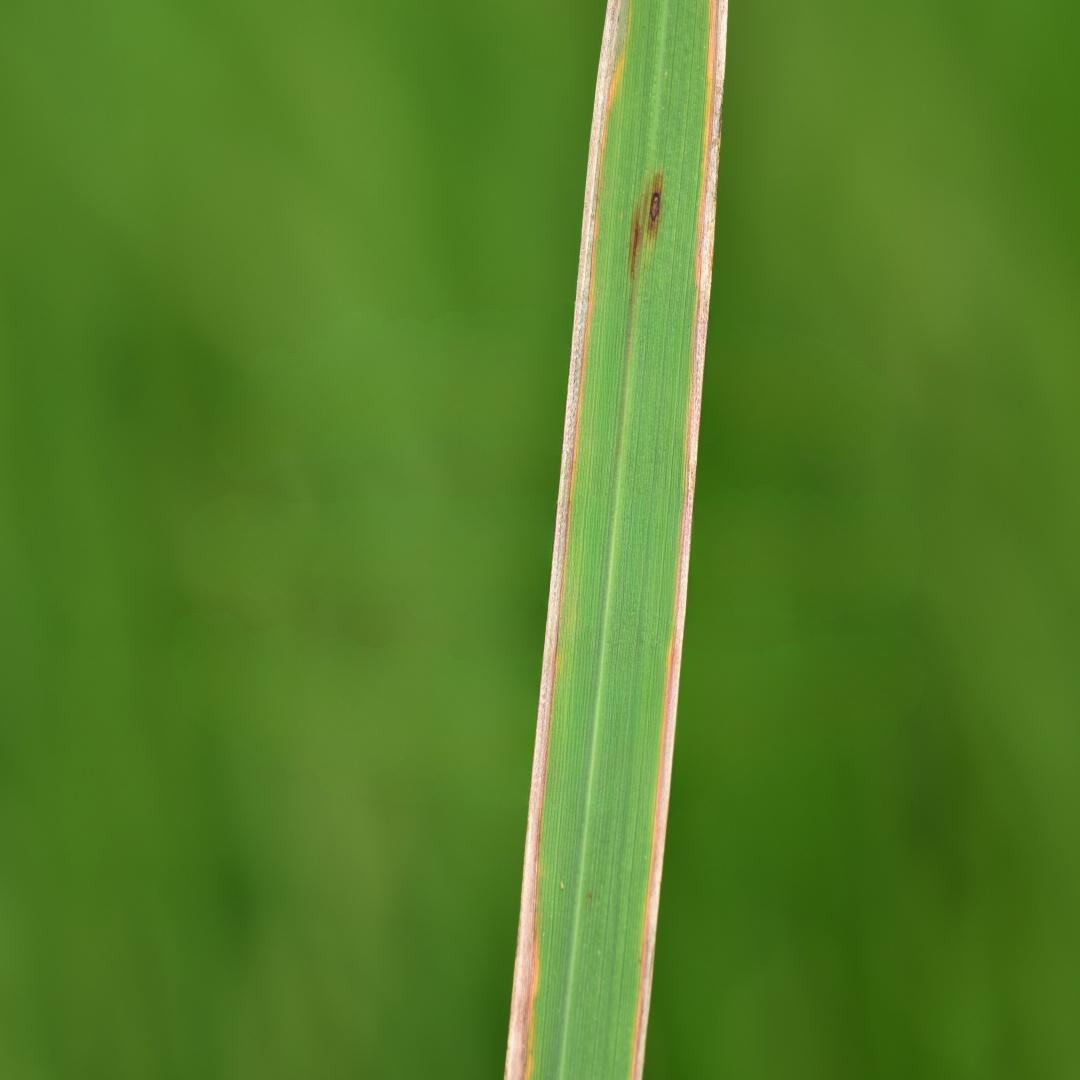BLB: (505, 0, 631, 1078), (630, 0, 727, 1079)
LEAF: (504, 0, 727, 1079)
